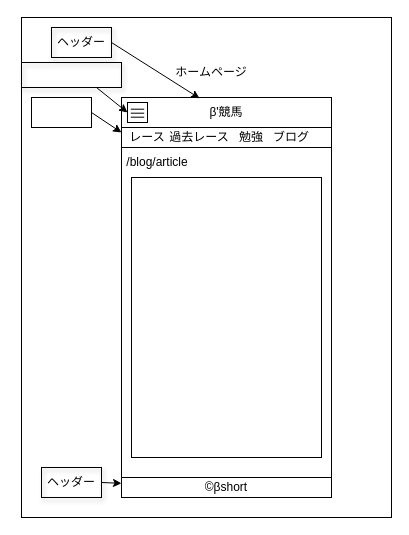
This 409x535 diagram has some shape labels left out. Here are the shapes that lost their labels. From the top down, the centre of each, then its label:
(x=72, y=76): サイドバーボタン
(x=61, y=112): ヘッダーメニュー
